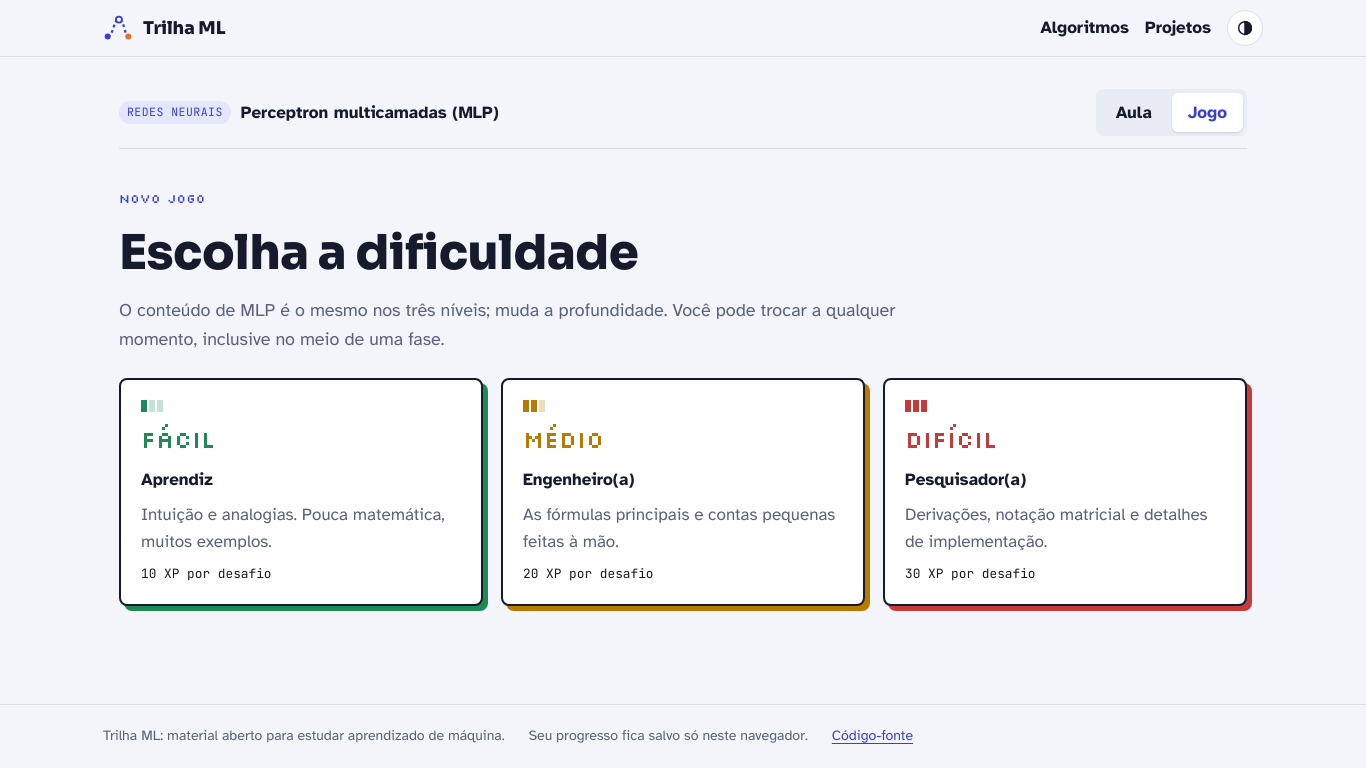
Test: aplicação › pede a dificuldade no primeiro acesso ao jogo e depois mostra o mapa
The image size is (1366, 768).
Step 1. Click the button "Médio" → (564, 438), box [501,378,865,606]
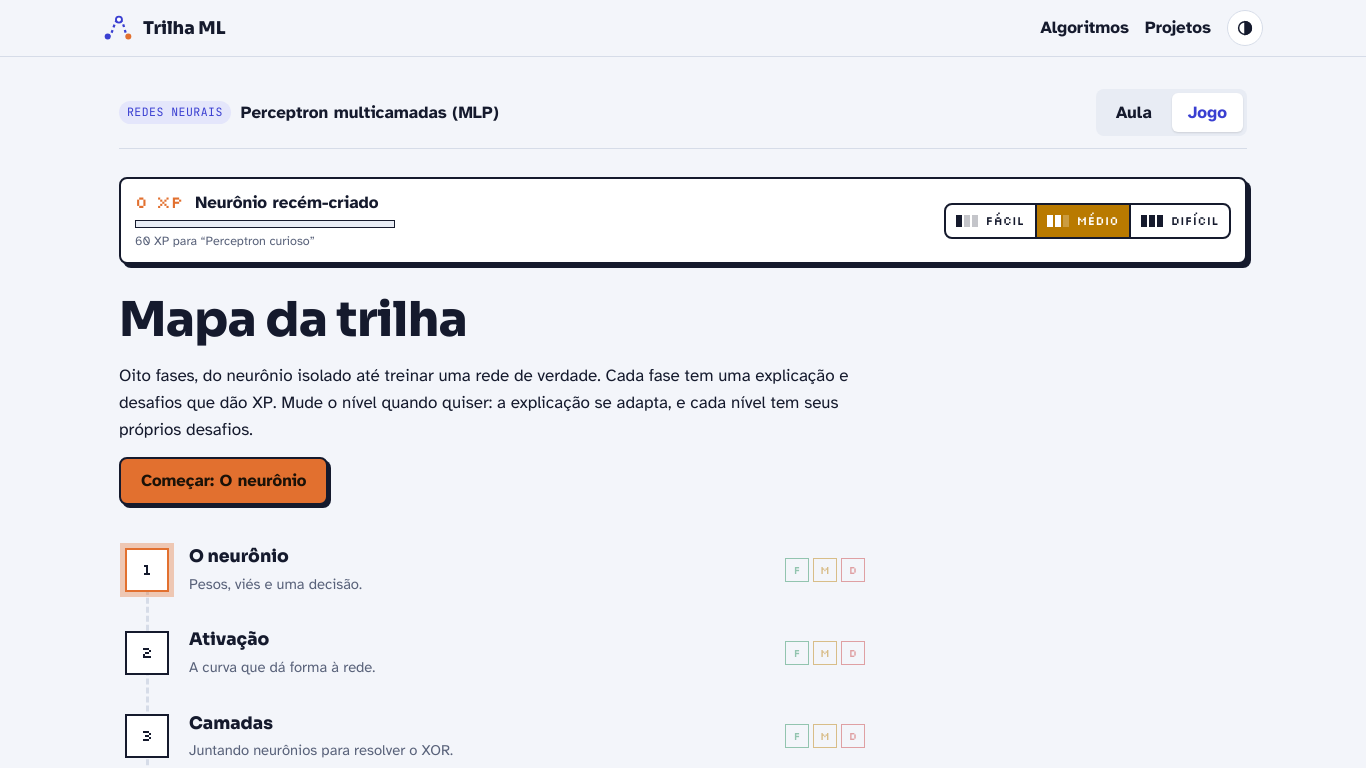
Expected: the heading "Mapa da trilha" is shown, [119,292,467,348]
